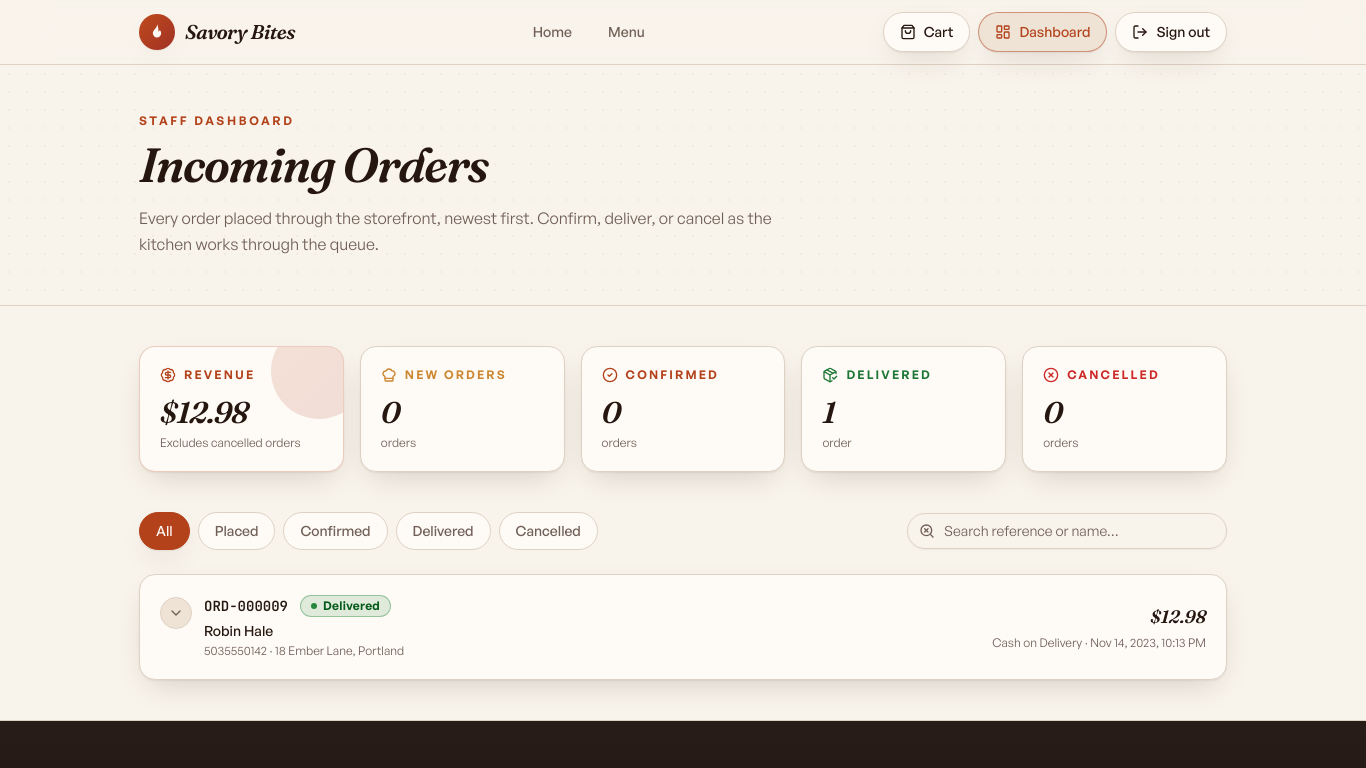
Test: admin dashboard › surfaces a clear message when the backend rejects an invalid transition
The image size is (1366, 768).
Expected: the list with test id "admin.order.list" is shown, [139,574,1227,680]
Click the button with test id "admin.order.toggle.1": [176, 613] box [160,595,976,659]
(page scrolled)
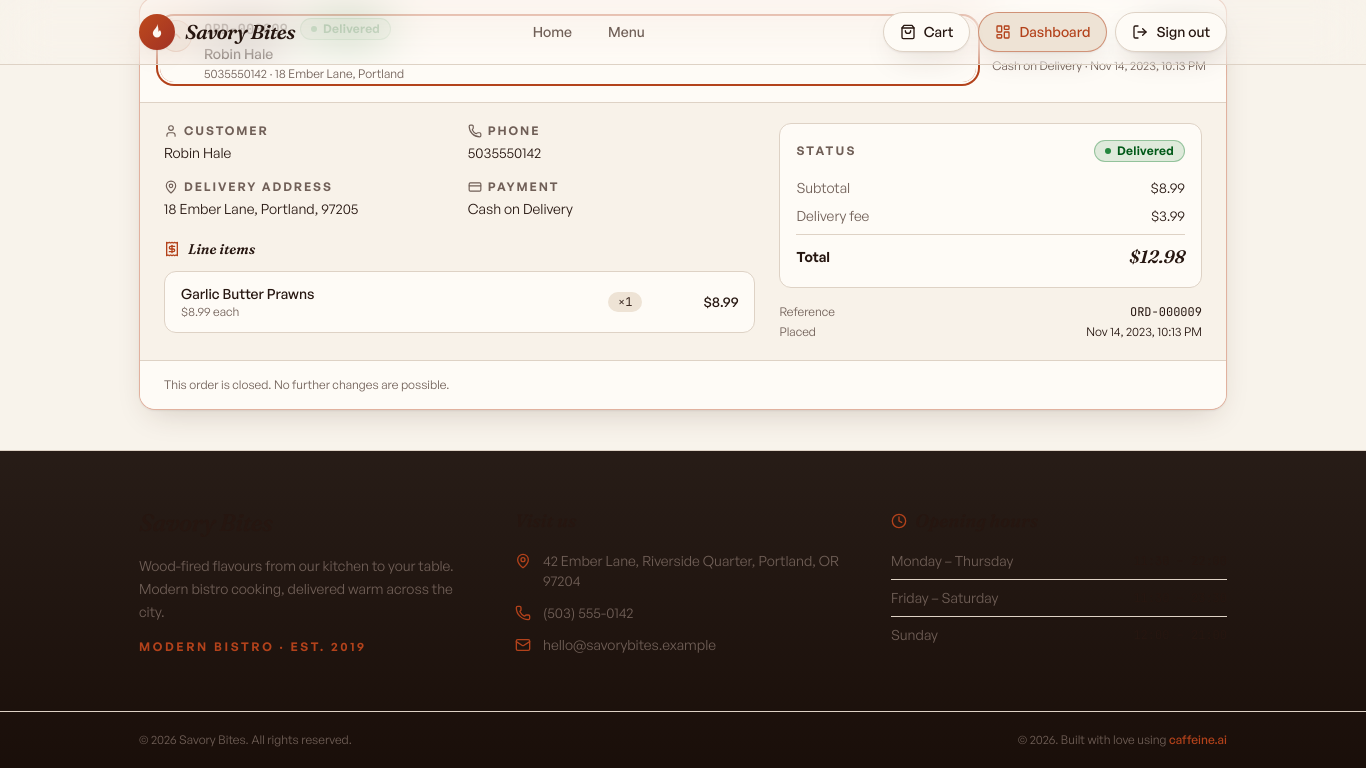
Expected: the text "This order is closed. No further changes are possible." is shown, [164,377,449,393]
